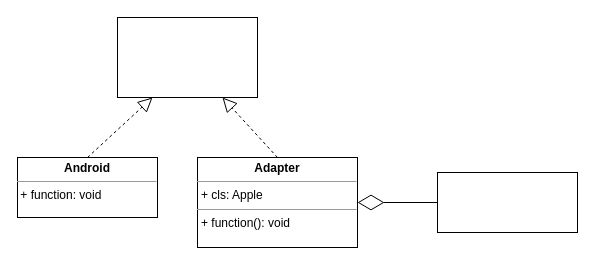
Some shapes in this 595 by 265 pixel diagram are drawn without their labels. The box of each missing label's shape, as (x1, y1, x2, y2) in pixels:
<<Interface>> Target + function: void: (116, 16, 258, 98)
Apple + psl_function: void: (436, 172, 578, 232)
